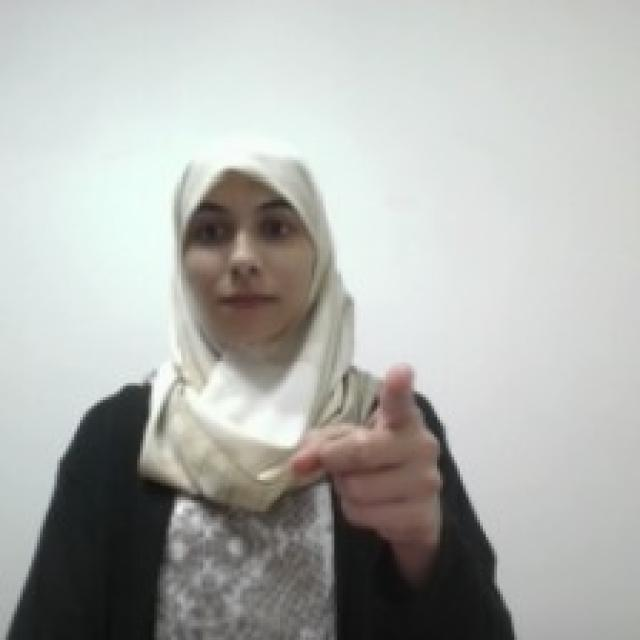you: (284, 356, 448, 548)
